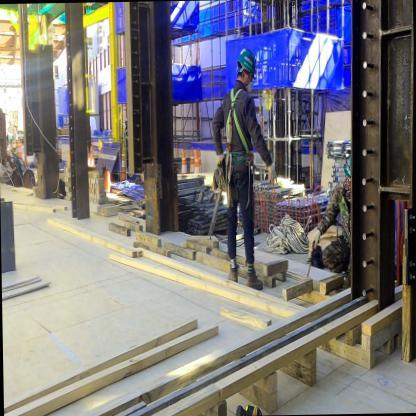Helmet: (237, 41, 260, 77)
safety-shoe: (243, 270, 266, 297), (223, 259, 239, 292)
